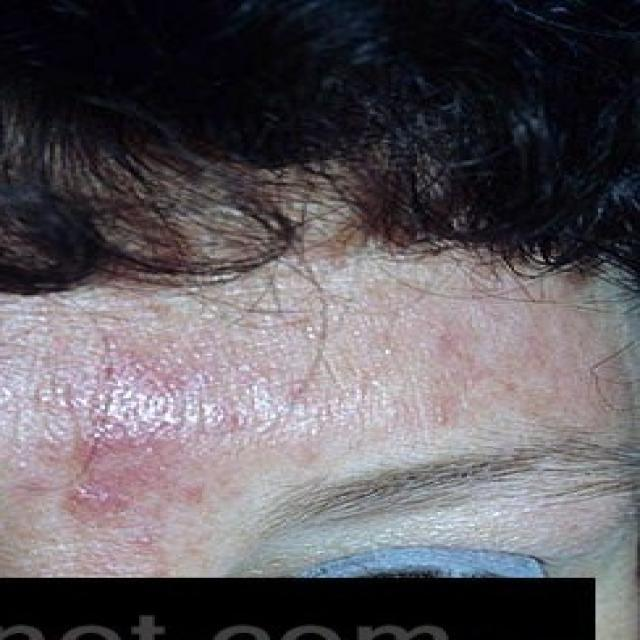Rosacea: (57, 316, 499, 524)
